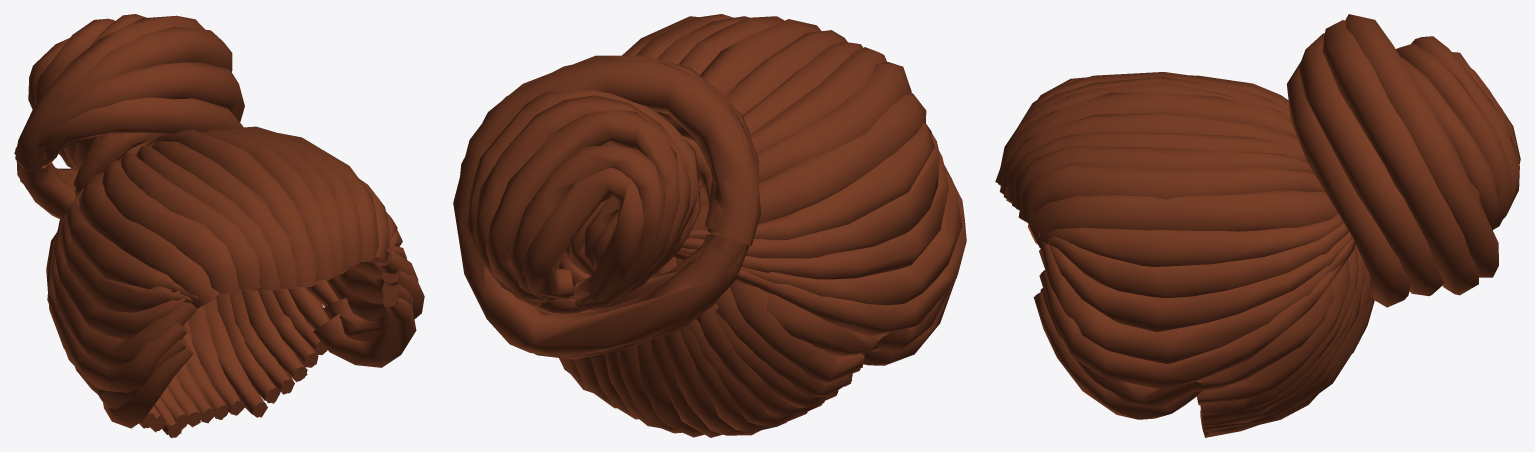
Rendered from hair-7-54037aa7.glb.
The picture shows the model from 3 angles, left to right: view 1: azimuth 30°, elevation 25°; view 2: azimuth 150°, elevation 25°; view 3: azimuth 270°, elevation 25°; orthographic projection. The views are drawn at different scales.
Visible parts, largest first — view 1: hair_7.001; view 2: hair_7.001; view 3: hair_7.001.
Boxes of the visible parts, x1,y1,x2,y2 form: hair_7.001: (14, 14, 424, 437); hair_7.001: (453, 14, 966, 437); hair_7.001: (995, 14, 1520, 437).
Size of the model in its own units: 1.8 by 2 by 2.47.
